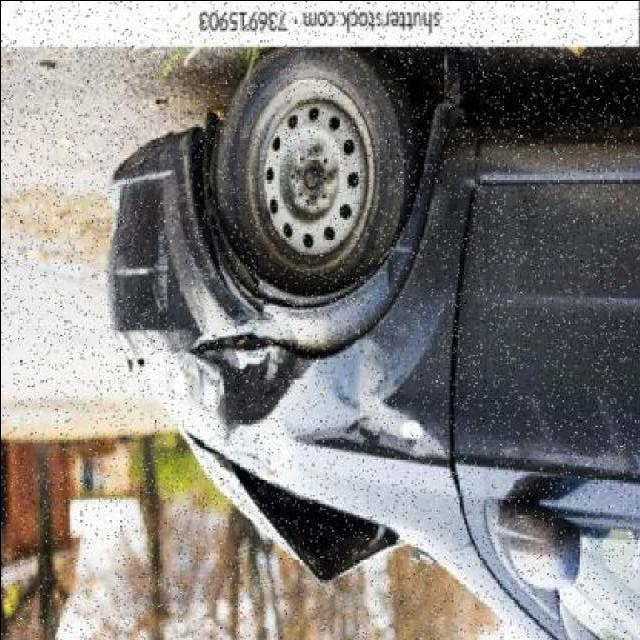fender-dent: (237, 269, 451, 480)
front-bumper-dent: (98, 114, 234, 378)
